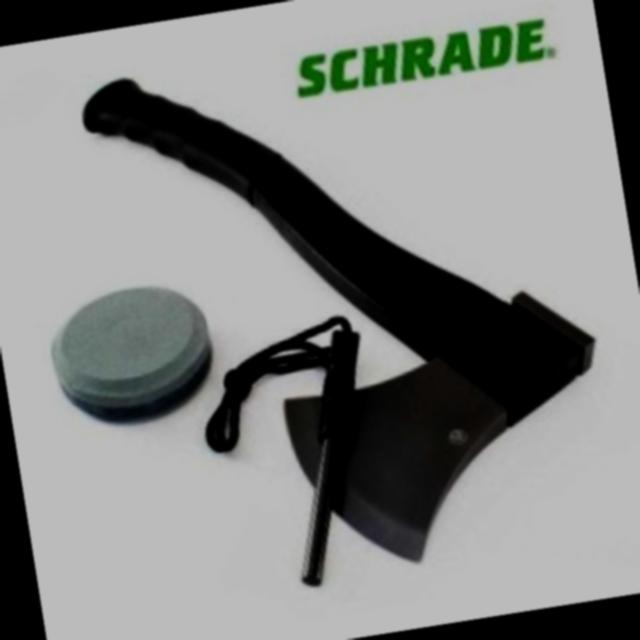ax: (70, 1, 637, 617)
